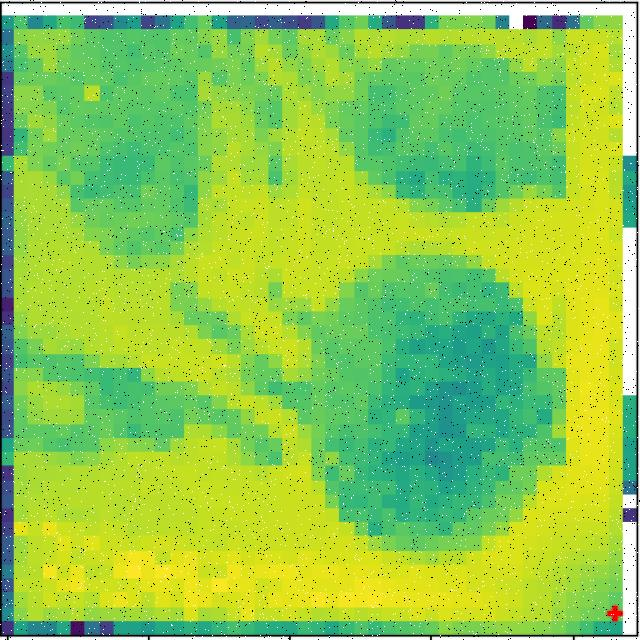Concrete: (83, 363, 194, 453)
Glass: (334, 269, 534, 548)
Metal: (55, 43, 210, 268)
Wood: (341, 54, 559, 218)
